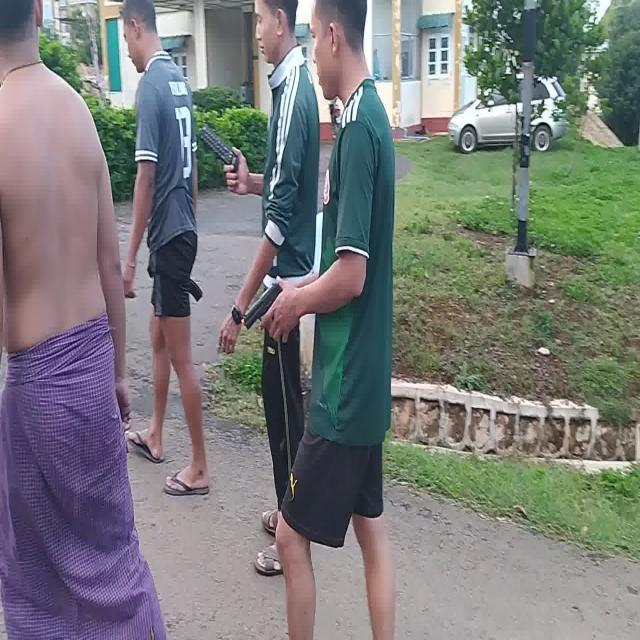gun: (243, 283, 282, 327)
